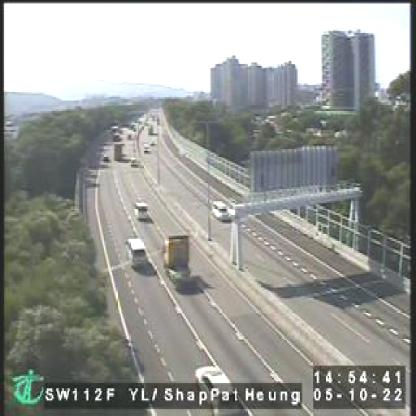Car: (194, 364, 236, 413), (124, 237, 146, 268), (210, 199, 228, 220), (134, 203, 148, 222)
Truck: (163, 234, 191, 286)
